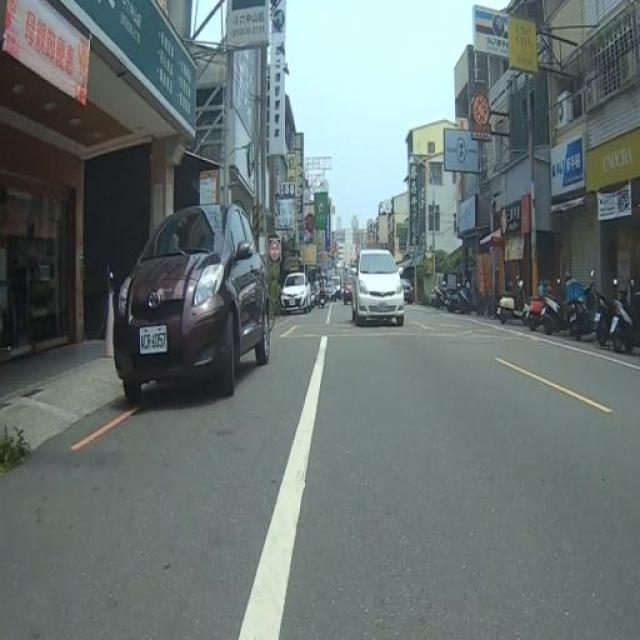illegalparking: (114, 205, 272, 402), (427, 259, 640, 358), (282, 274, 309, 305)
